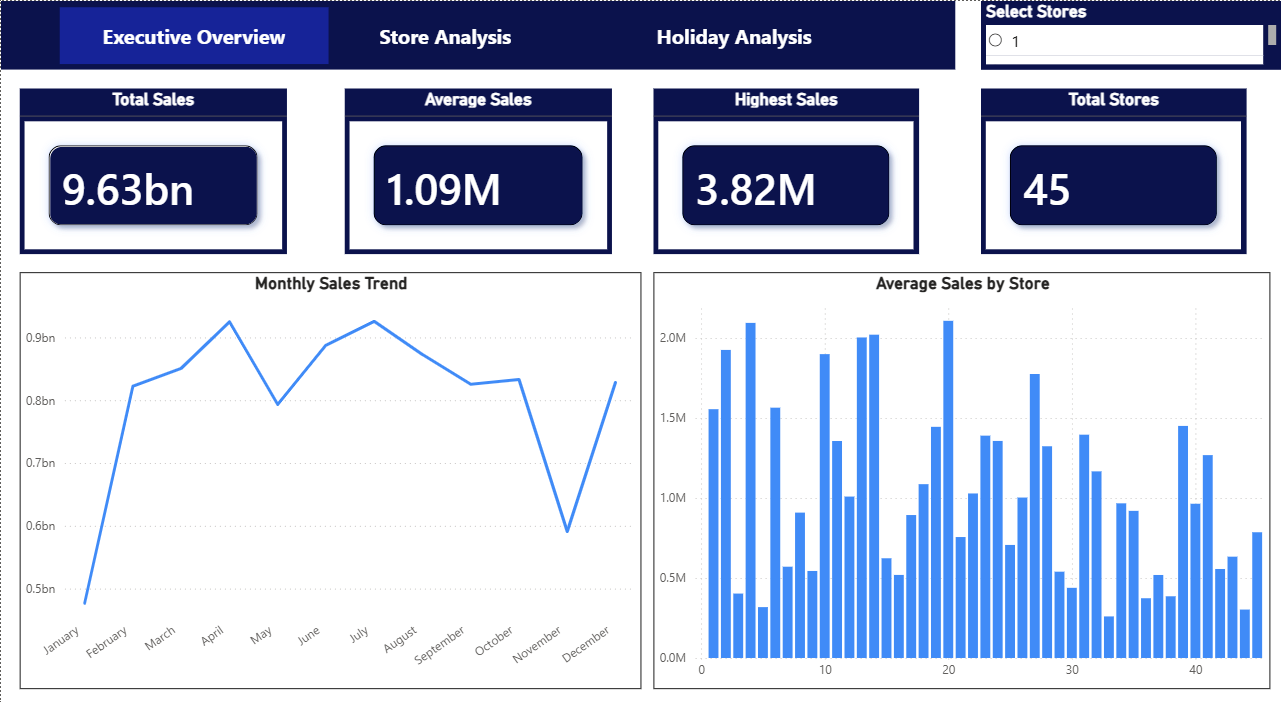

The page's visual inventory and layout, read from the dashboard file:
{"tool":"powerbi","page":{"name":"Executive Overview","canvas":[1280,720],"ordinal":0},"visuals":[{"type":"cardVisual","title":"Total Sales","fields":{"Data":["Sum(walmart_project walmart_sales.Weekly_Sales)"]},"box":[18.6,87.1,267.1,165.7],"z":0},{"type":"cardVisual","title":"Average Sales","fields":{"Data":["Avg(walmart_project walmart_sales.Weekly_Sales)"]},"box":[344.3,87.1,267.1,165.7],"z":1000},{"type":"cardVisual","title":"Highest Sales","fields":{"Data":["Max(walmart_project walmart_sales.Weekly_Sales)"]},"box":[652.9,87.1,265.7,165.7],"z":2000},{"type":"cardVisual","title":"Total Stores","fields":{"Data":["Count(walmart_project walmart_sales.Store)"]},"box":[980,87.1,265.7,165.7],"z":3000},{"type":"lineChart","title":"Monthly Sales Trend","fields":{"Category":["walmart_project walmart_sales.Date.Variation.Date Hierarchy.Month"],"Y":["Sum(walmart_project walmart_sales.Weekly_Sales)"]},"box":[18.6,271.4,621.4,417.1],"z":4000},{"type":"clusteredColumnChart","title":"Average Sales by Store","fields":{"Category":["walmart_project walmart_sales.Store"],"Y":["Avg(walmart_project walmart_sales.Weekly_Sales)"]},"box":[652.9,271.4,617.1,417.1],"z":5000},{"type":"shape","box":[0,0,954.3,68.6],"z":6000},{"type":"actionButton","box":[58.6,5.7,268.6,57.1],"z":7000},{"type":"actionButton","box":[310,5.7,268.6,57.1],"z":8000},{"type":"actionButton","box":[598.6,5.7,268.6,57.1],"z":9000},{"type":"listSlicer","title":"Select Stores","fields":{"Values":["walmart_project walmart_sales.Store"]},"box":[980,0,300,68.6],"z":10000}]}

Visuals, with their boxes in screenshot pixels (x1, y1, x2, y2), scaled from the page's 1280x720 canvas onto the 1281x702 screenshot:
"Total Sales" cardVisual: bbox(19, 85, 286, 246)
"Average Sales" cardVisual: bbox(345, 85, 612, 246)
"Highest Sales" cardVisual: bbox(653, 85, 919, 246)
"Total Stores" cardVisual: bbox(981, 85, 1247, 246)
"Monthly Sales Trend" lineChart: bbox(19, 265, 640, 671)
"Average Sales by Store" clusteredColumnChart: bbox(653, 265, 1271, 671)
shape: bbox(0, 0, 955, 67)
actionButton: bbox(59, 6, 327, 61)
actionButton: bbox(310, 6, 579, 61)
actionButton: bbox(599, 6, 868, 61)
"Select Stores" listSlicer: bbox(981, 0, 1280, 67)
